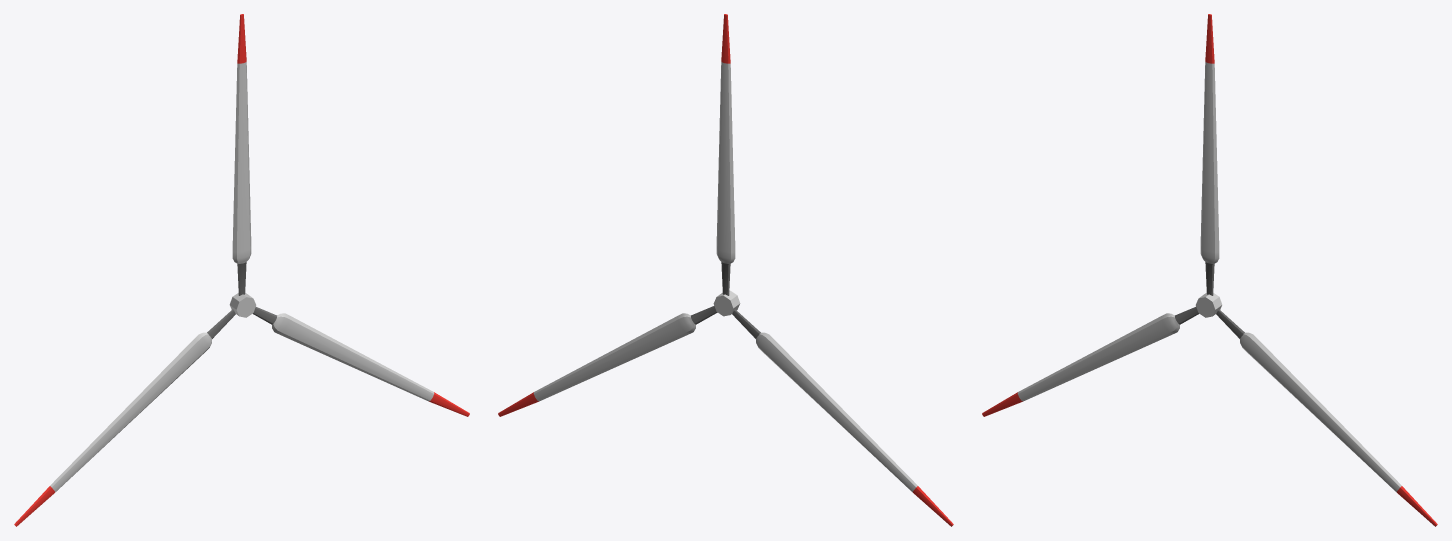
File: SM_Buildings_Factory_06_2.fbx
The picture shows the model from 3 angles, left to right: view 1: azimuth 30°, elevation 25°; view 2: azimuth 150°, elevation 25°; view 3: azimuth 330°, elevation 25°; orthographic projection.
Visible parts, largest first — view 1: SM_Buildings_Factory_06_2; view 2: SM_Buildings_Factory_06_2; view 3: SM_Buildings_Factory_06_2.
Part boxes in pixels (x1,y1,x2,y2): SM_Buildings_Factory_06_2: [14, 14, 469, 526]; SM_Buildings_Factory_06_2: [498, 14, 953, 526]; SM_Buildings_Factory_06_2: [982, 14, 1437, 526].
Size of the model in its own units: 10.7 by 10.27 by 0.2823.
